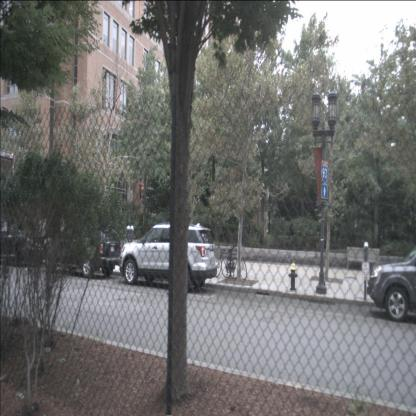vehicle-bicycle: (214, 243, 241, 278), (220, 247, 248, 280)
vehicle-car: (119, 222, 218, 290), (44, 222, 122, 279), (366, 245, 416, 325), (0, 219, 48, 268)
